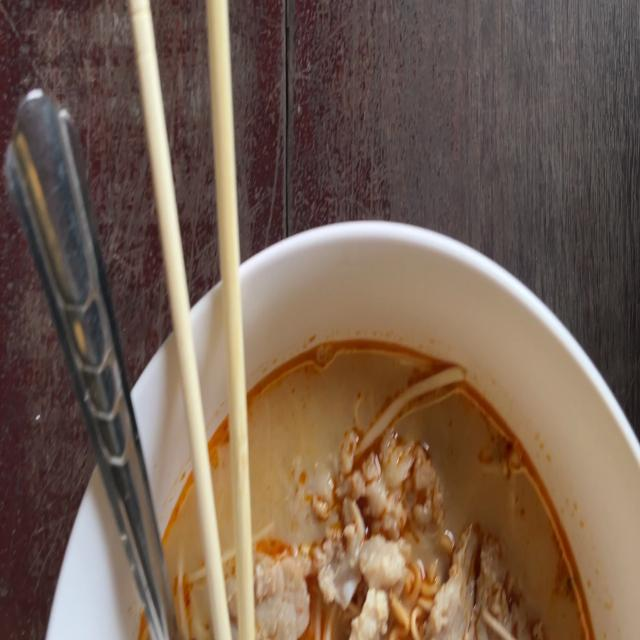noodle: (133, 303, 640, 640)
